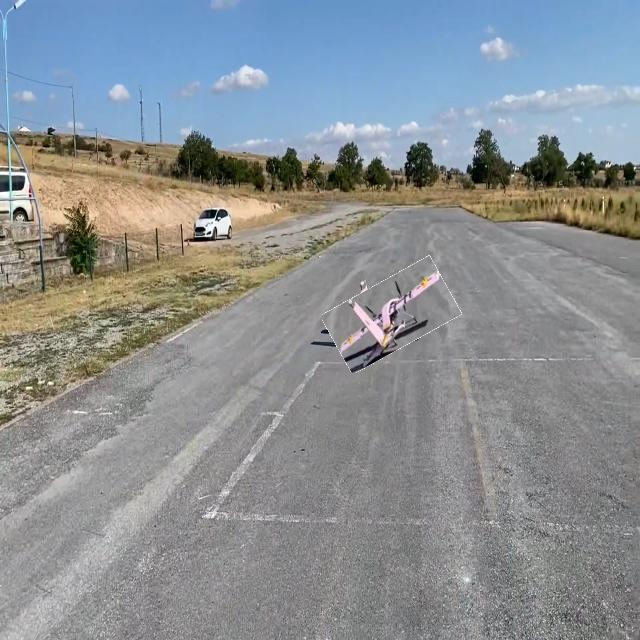iha: (324, 302, 455, 334)
